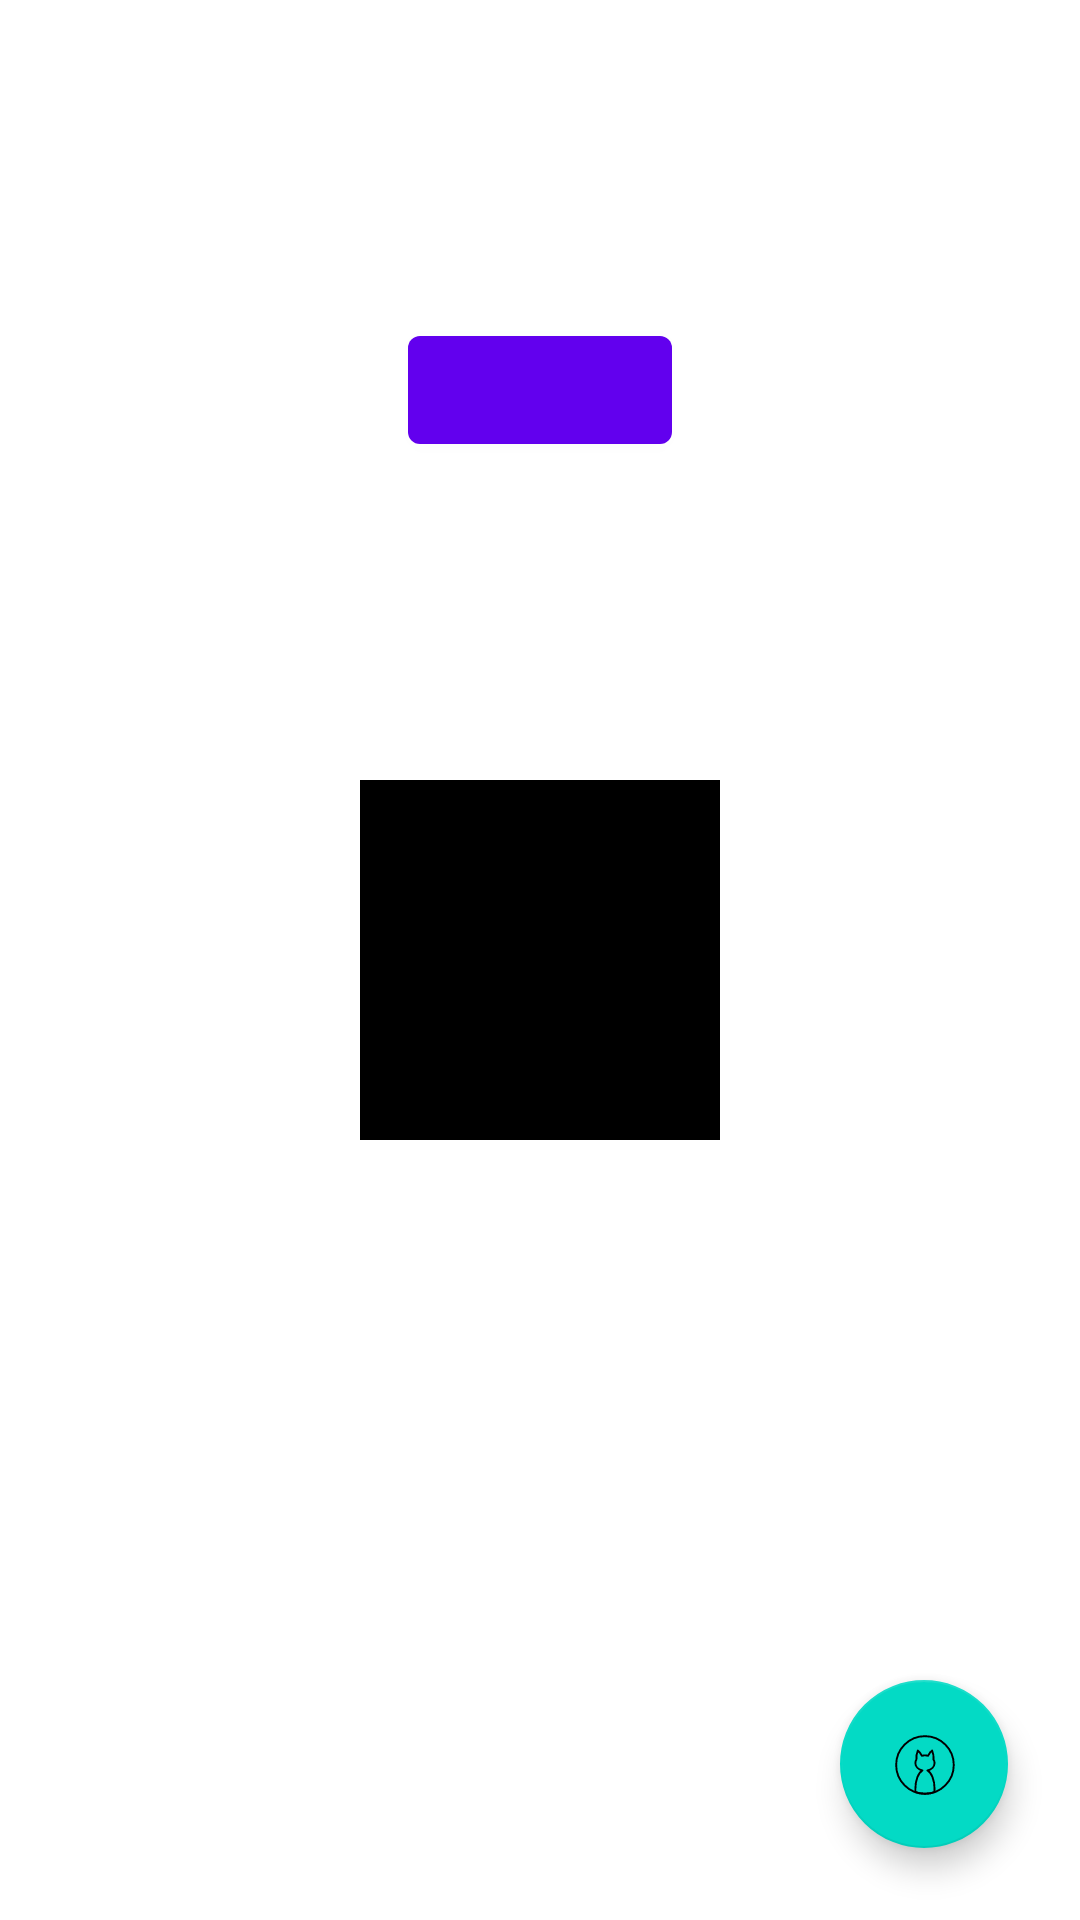

Where icons sit on this 1080 × 1920 app screen, as (x1, y1, x2, y2):
cat menu act: (840, 1680, 1008, 1848)
